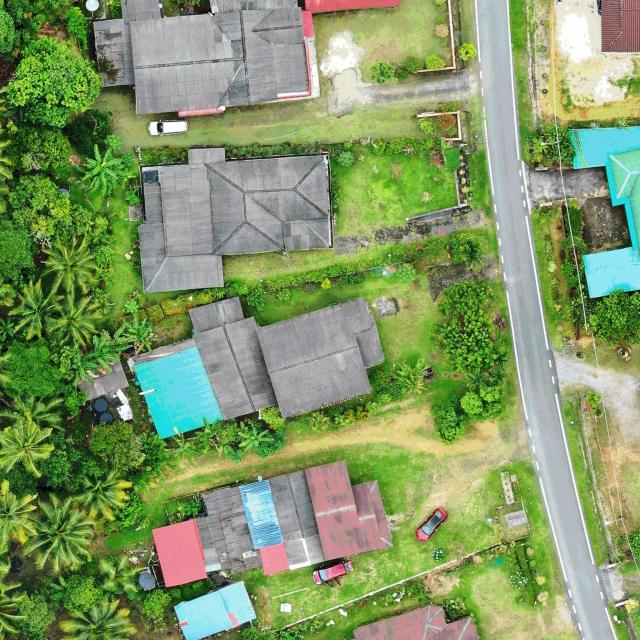Tree: (3, 35, 103, 128), (18, 494, 98, 575), (1, 338, 76, 398), (6, 173, 74, 238), (437, 315, 511, 374), (38, 234, 99, 301), (5, 276, 64, 341), (66, 467, 132, 524), (40, 433, 101, 490), (57, 597, 136, 640), (88, 418, 147, 473), (0, 419, 55, 477), (585, 288, 640, 344), (50, 292, 104, 348), (80, 144, 138, 196), (0, 390, 65, 433), (21, 125, 74, 177), (0, 481, 38, 546), (436, 280, 496, 321), (97, 553, 144, 599), (115, 312, 161, 355), (460, 384, 508, 420), (15, 592, 56, 632), (0, 465, 43, 502), (63, 572, 104, 610), (71, 338, 102, 388), (393, 356, 431, 396), (87, 335, 121, 374), (102, 324, 133, 358), (238, 425, 275, 453), (171, 434, 202, 466), (258, 404, 287, 428), (369, 59, 395, 84), (462, 242, 485, 270), (195, 418, 219, 442), (465, 368, 490, 390), (457, 41, 477, 60), (417, 116, 437, 135), (490, 366, 509, 385)
